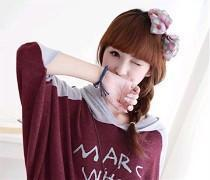face_mask: (100, 39, 151, 93)
